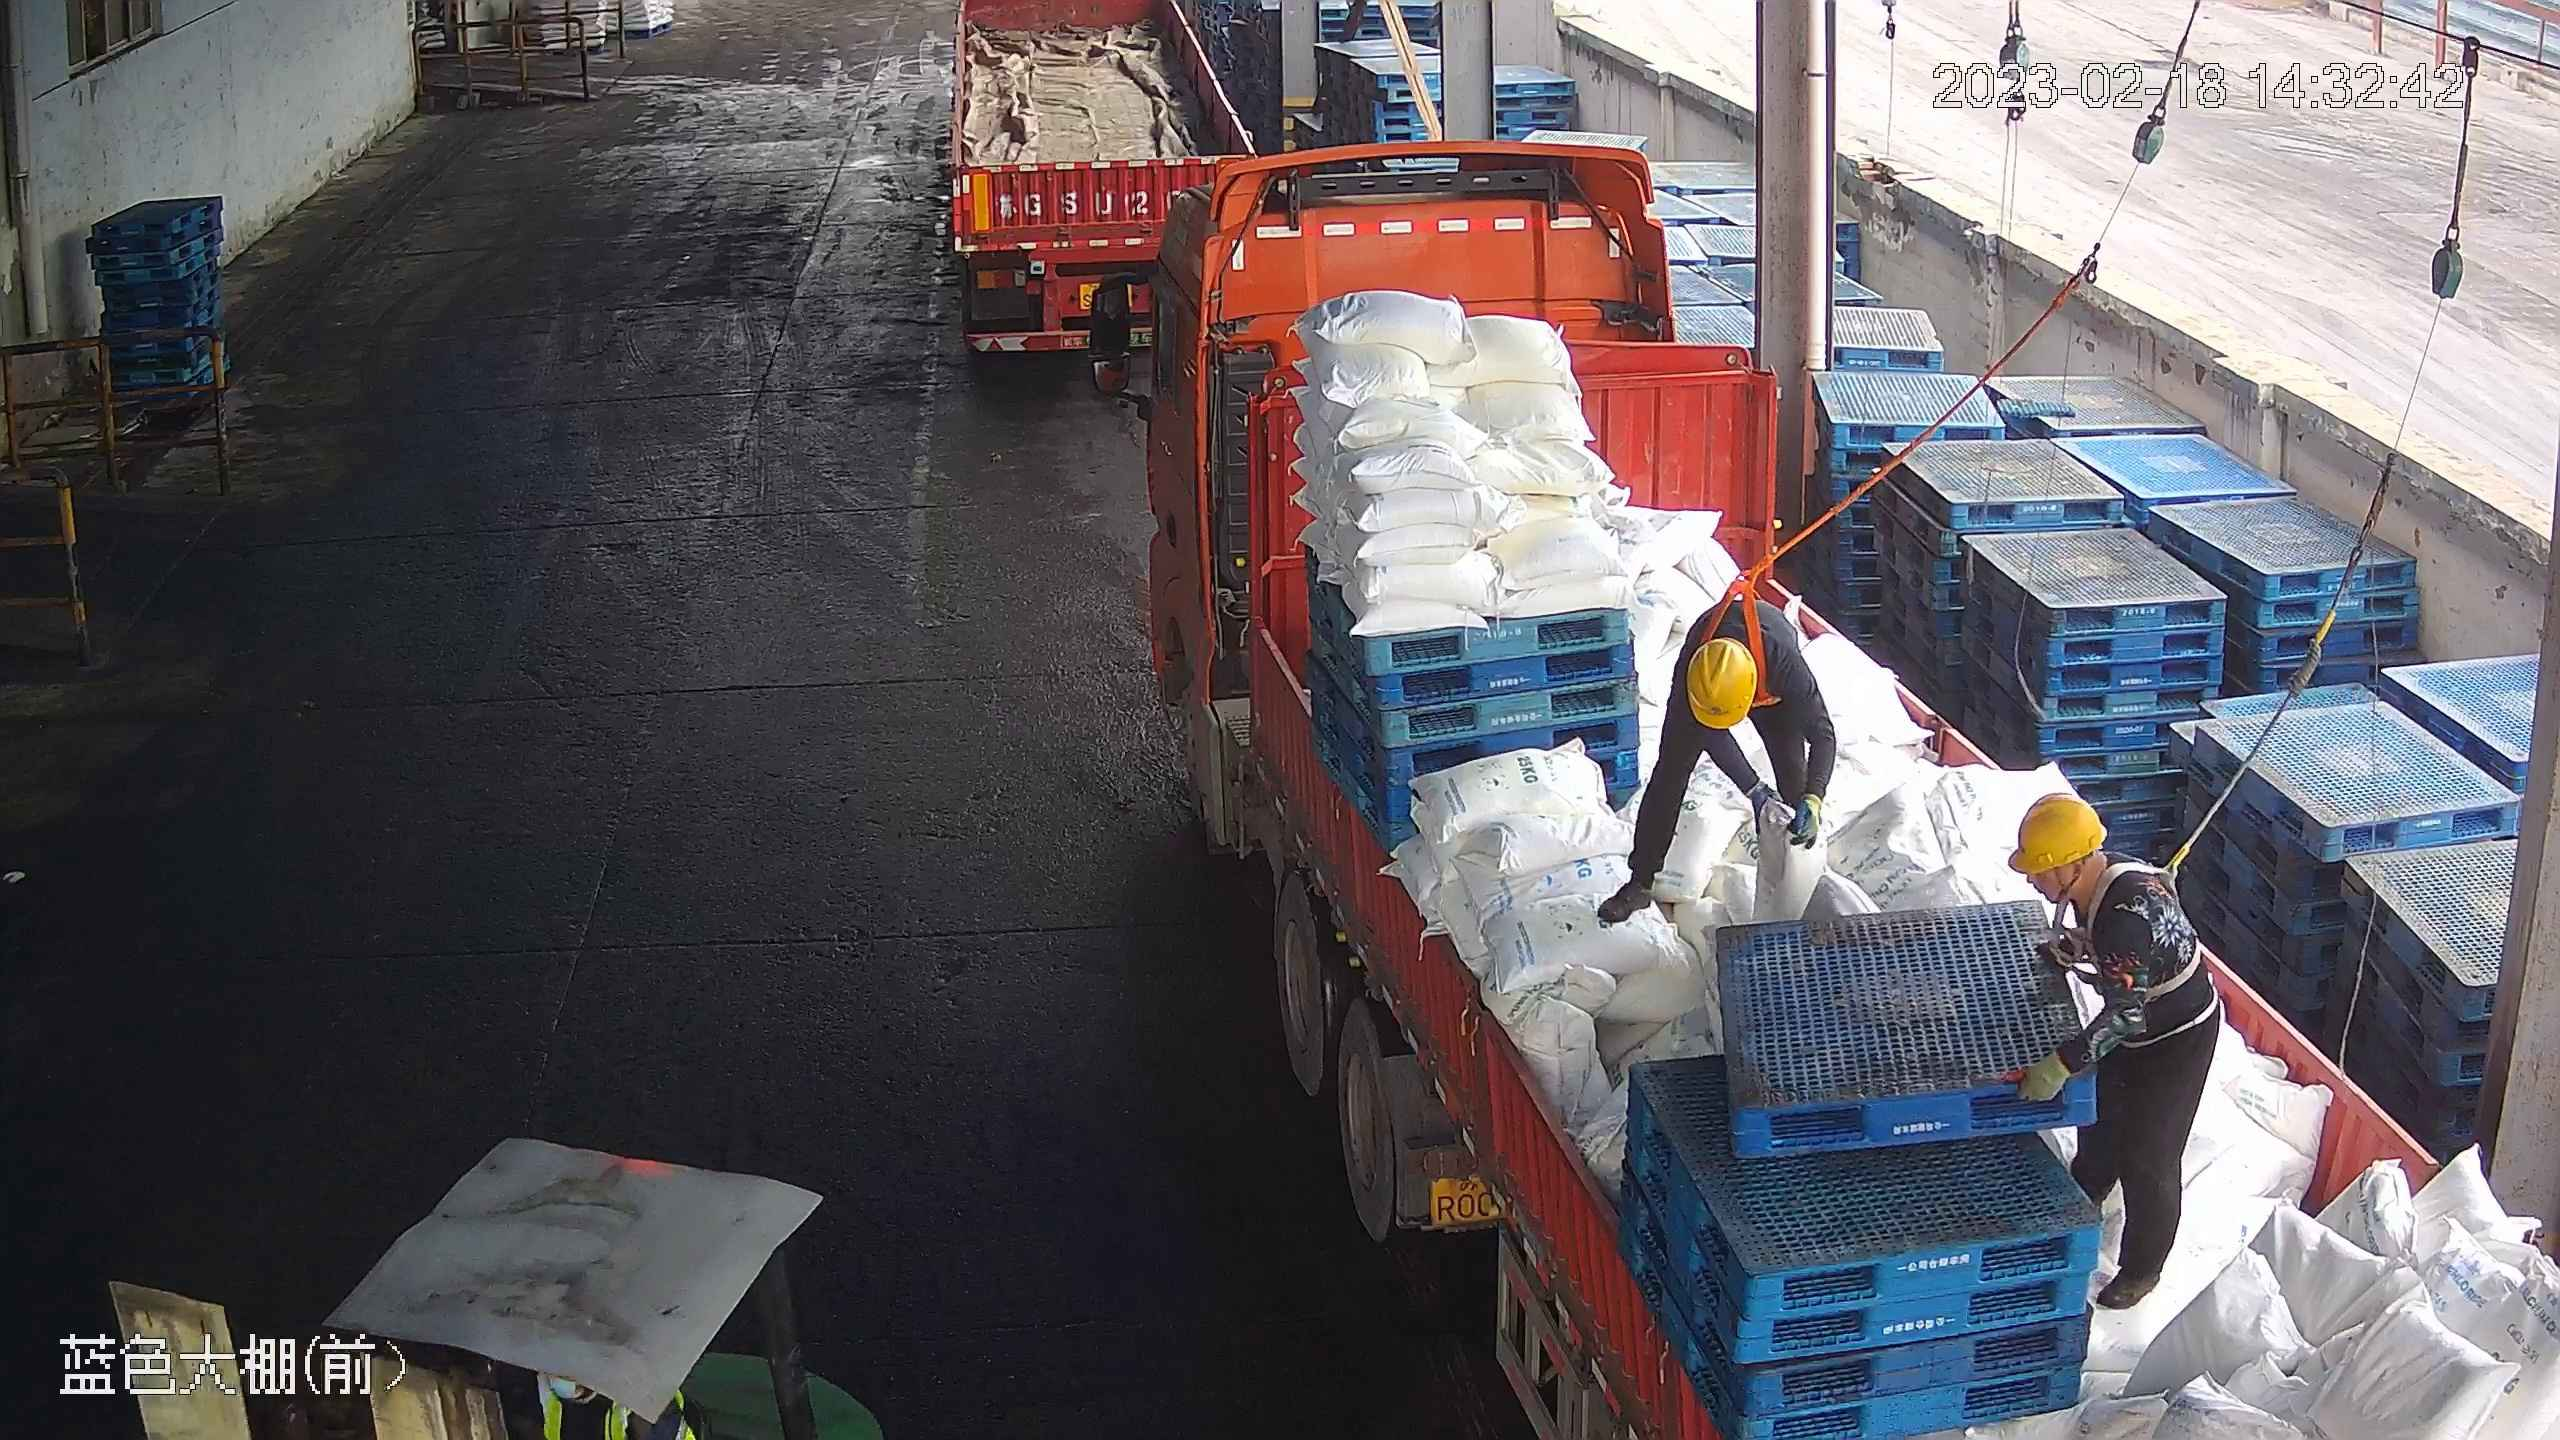belt: (2050, 863, 2213, 1001), (1701, 553, 1800, 673)
head: (2004, 790, 2185, 959), (1669, 592, 1806, 735)
helmet: (2008, 791, 2110, 873), (1682, 629, 1758, 725)
people: (2005, 792, 2220, 1315), (1596, 586, 1840, 922)
truck: (1082, 130, 2554, 1440), (937, 4, 1267, 376)
